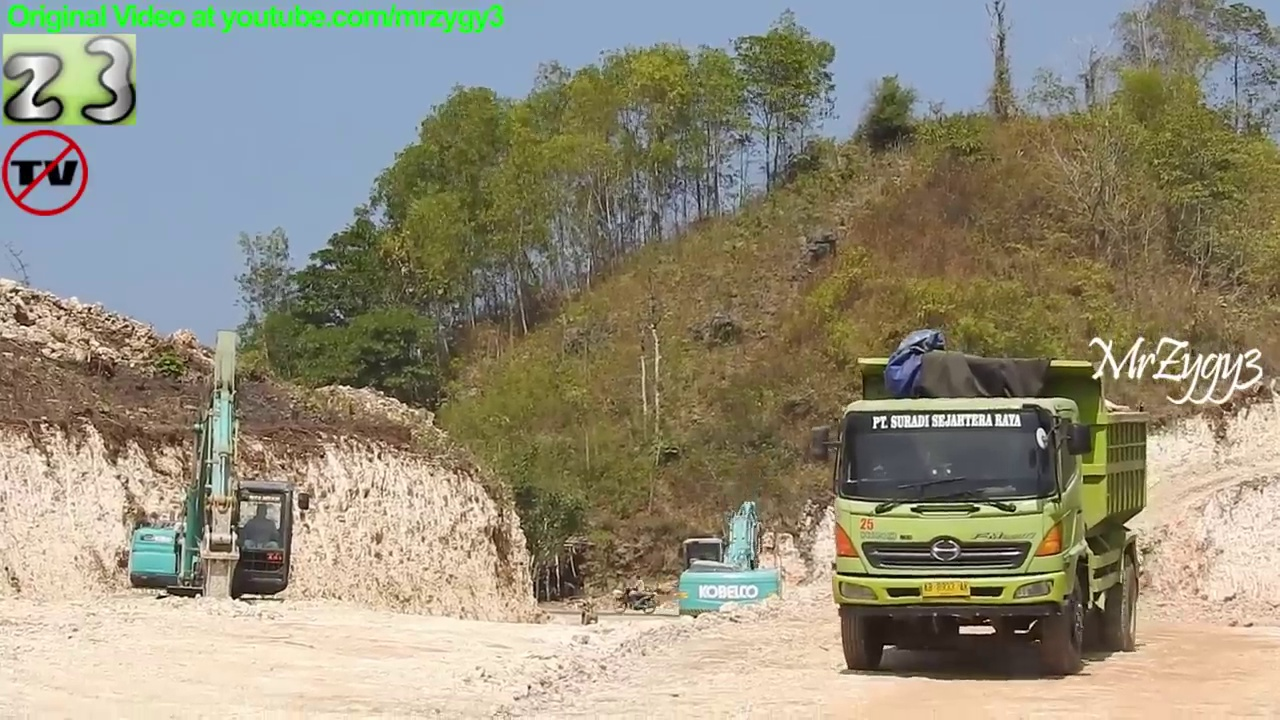excavator: (120, 326, 317, 641), (672, 496, 789, 645)
truck: (800, 350, 1160, 685)
